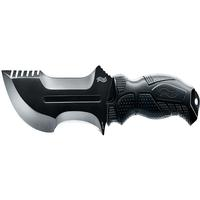knife: (2, 61, 199, 136)
